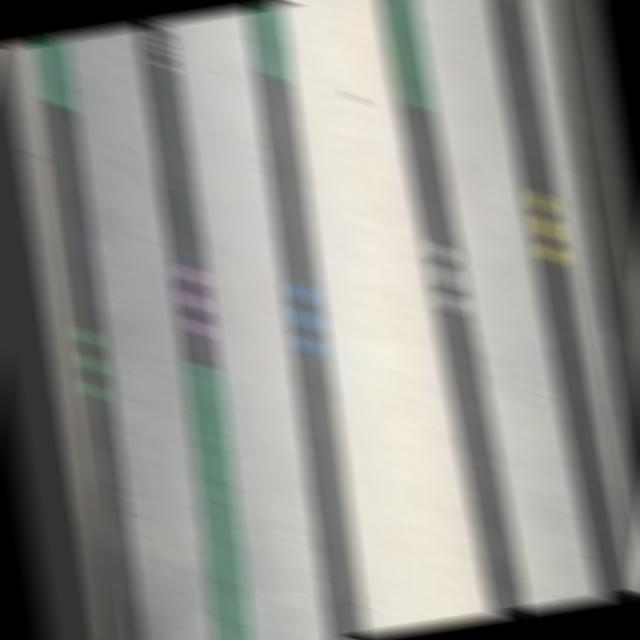blue: (285, 280, 325, 354)
green: (70, 323, 108, 402)
pink: (172, 264, 215, 346)
white: (425, 238, 469, 316)
yellow: (525, 192, 572, 266)
